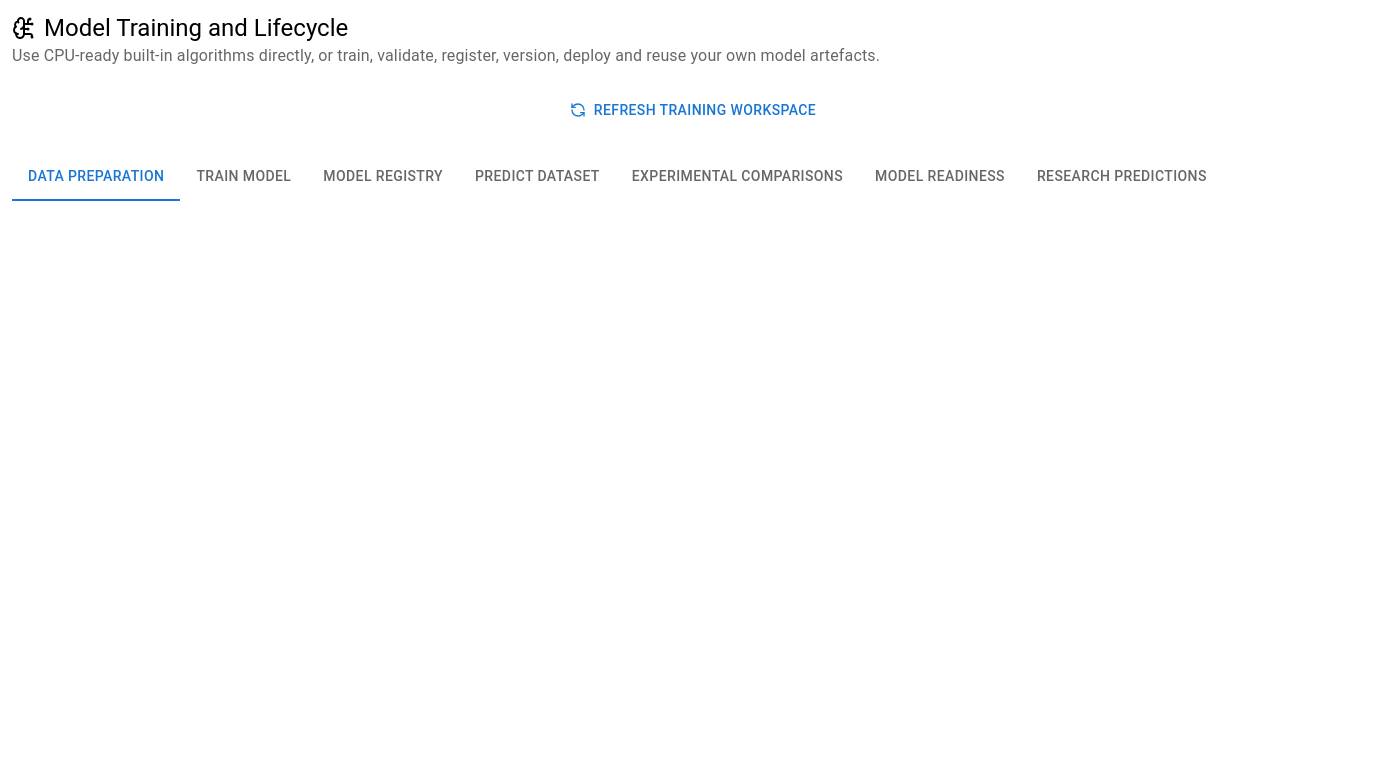
Scenario: keeps completed predictions on the results tab and displays download failures
Click the tab "Predict dataset": (537, 176) 459,152 -> 616,200
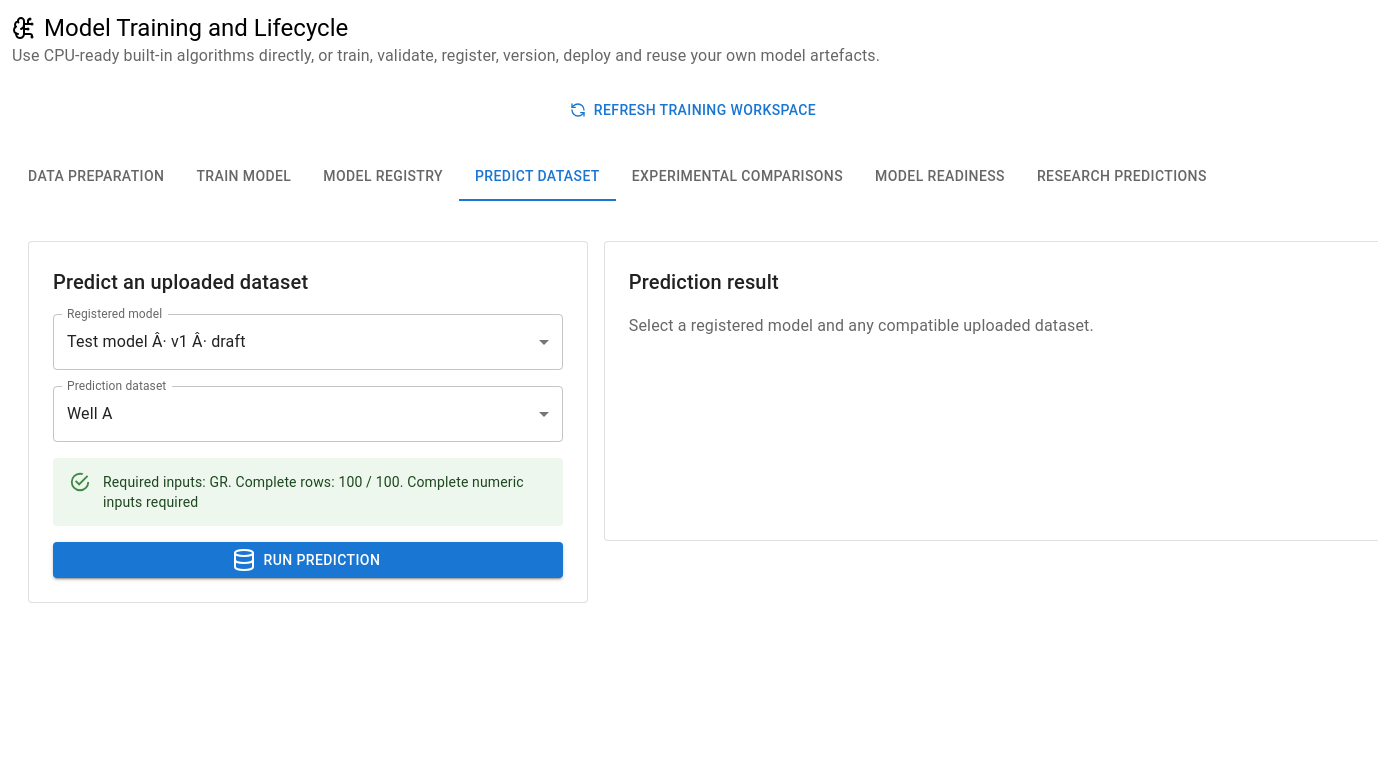
Result: the button "Run prediction" is enabled
Click the button "Run prediction": (308, 560) 53,542 -> 563,578
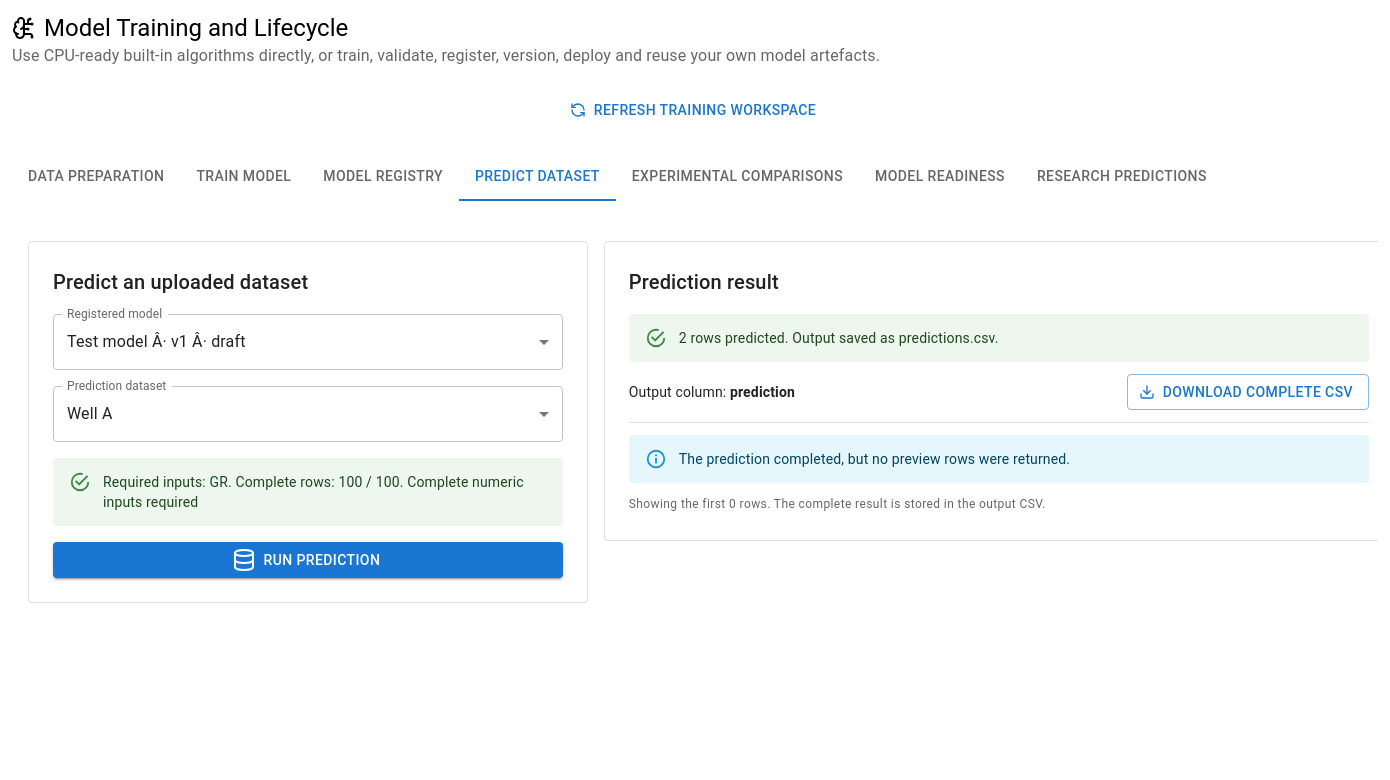
Click the button "Download complete CSV": (1248, 392) 1127,374 -> 1369,410
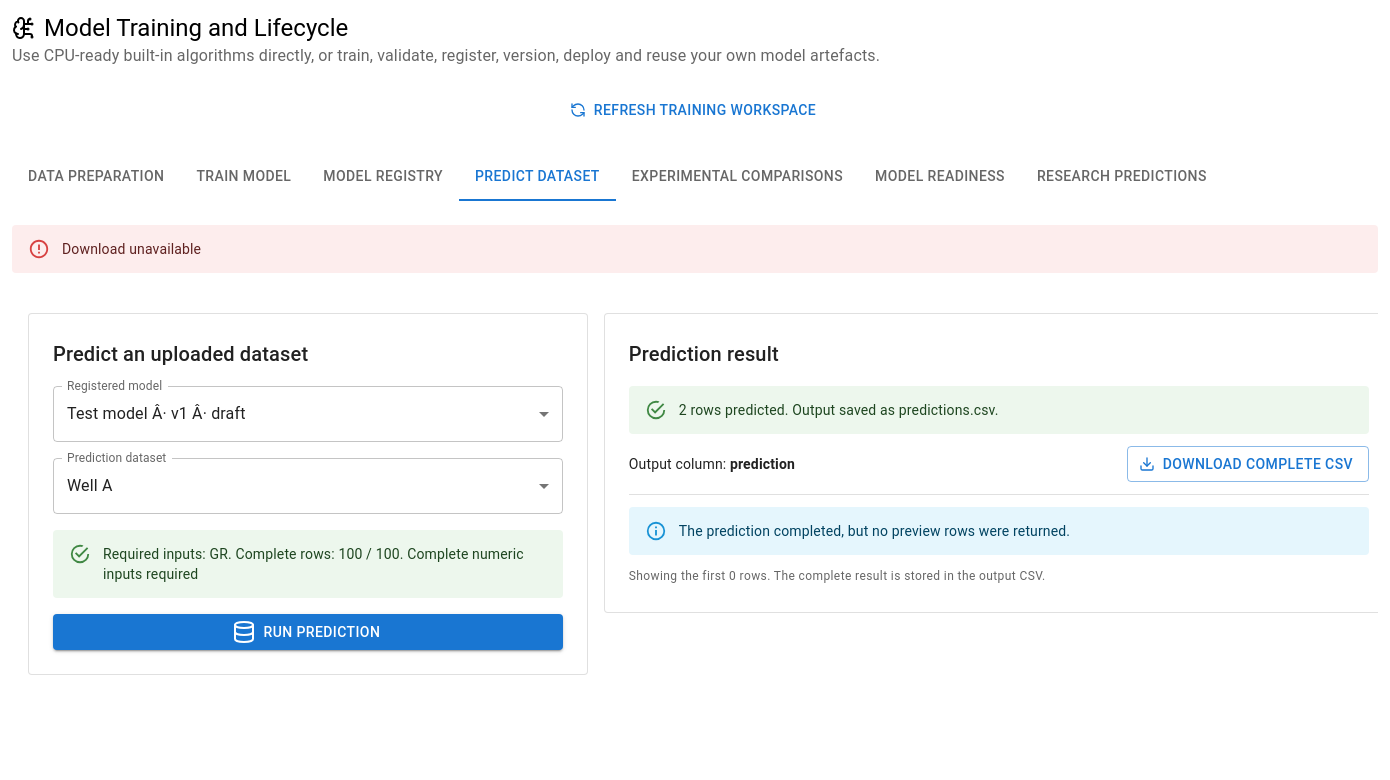
Result: the text "Download unavailable" is shown at 62,240 -> 201,256
